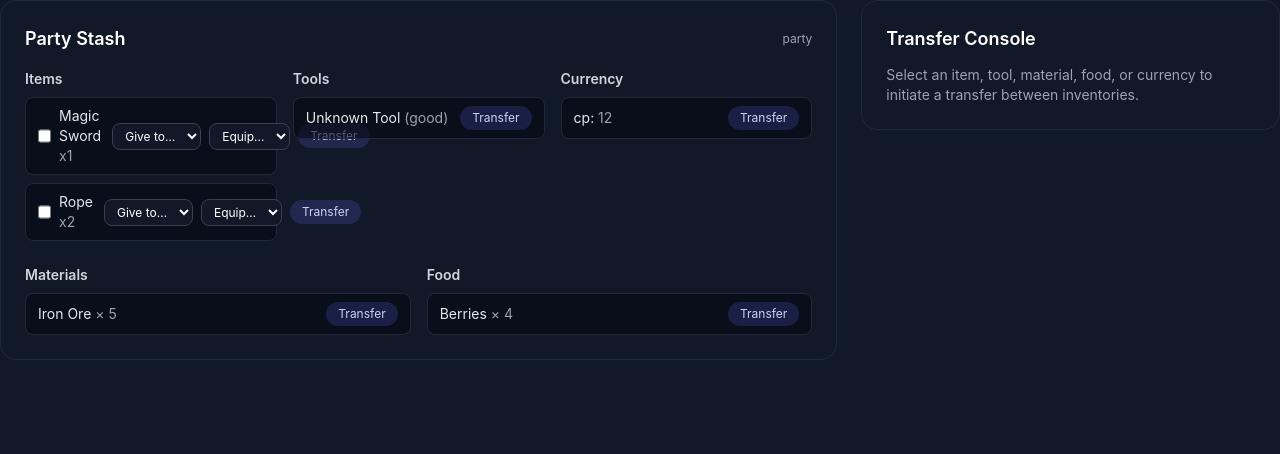
Test: PartyStashView › clears selection after a bulk give
Click the checkbox named "Select Magic Sword": click(44, 136) [38, 128, 51, 144]
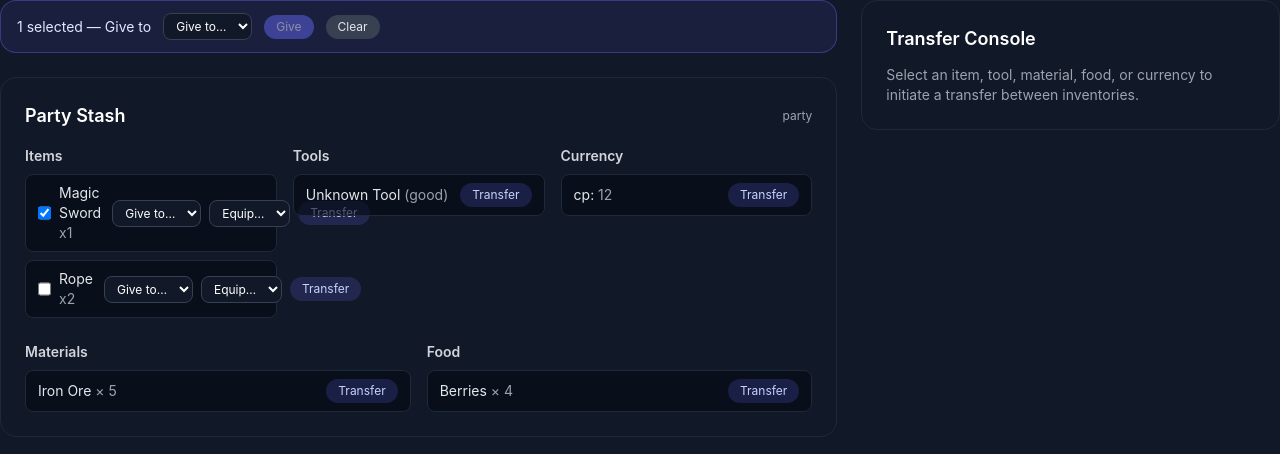
Select "Alice" in the dropdown named "Give selected items to character": (208, 26) [163, 13, 252, 40]
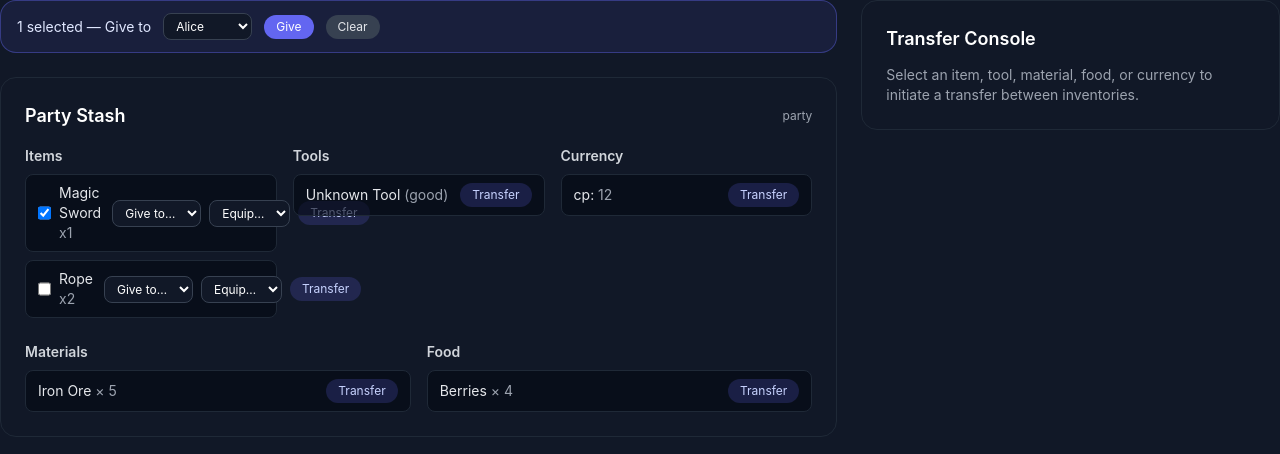
Click the button "Give": click(289, 26) [264, 14, 314, 38]
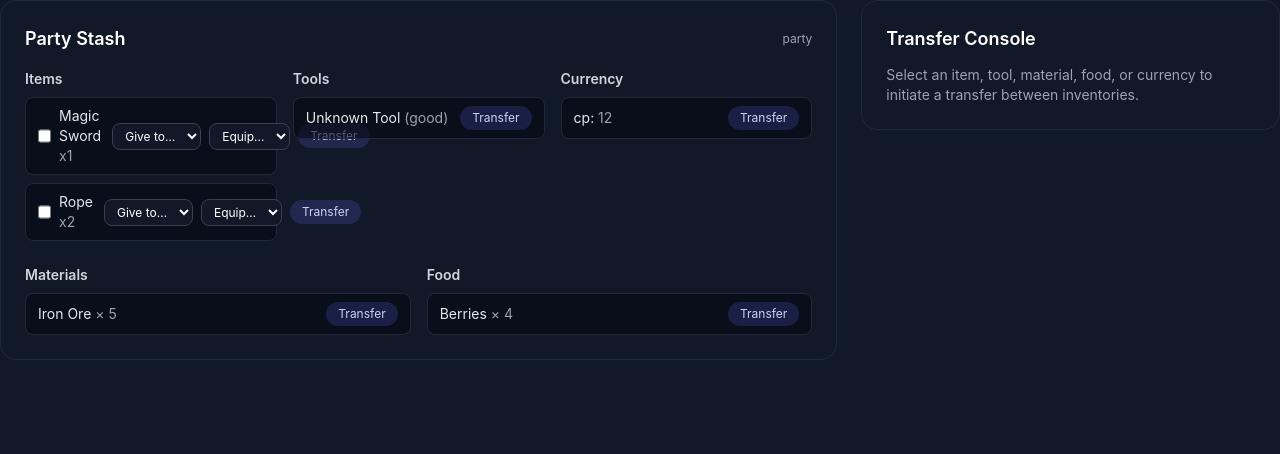
Result: the checkbox named "Select Magic Sword" is not checked at [38, 128, 51, 144]
Result: the text "selected — Give to" is gone
